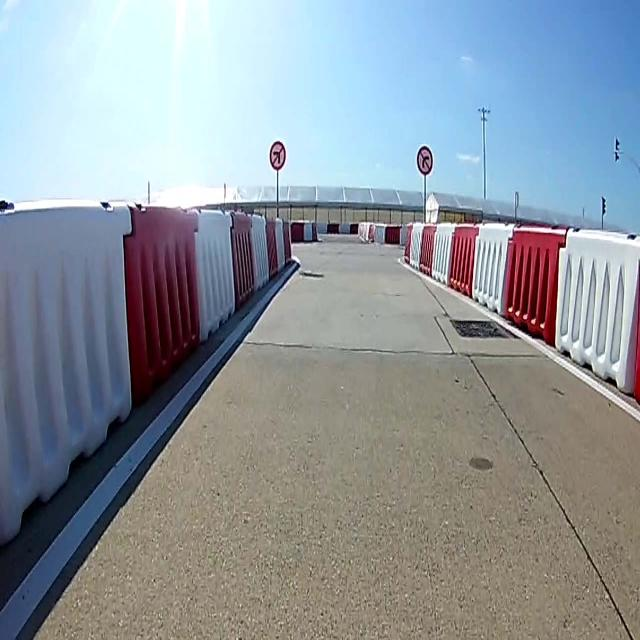sagadonulmez: (415, 142, 433, 174)
soladonulmez: (269, 140, 285, 168)
